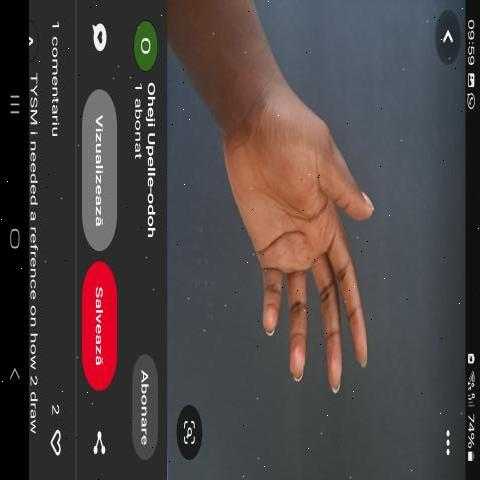Hands: (192, 82, 422, 412)
